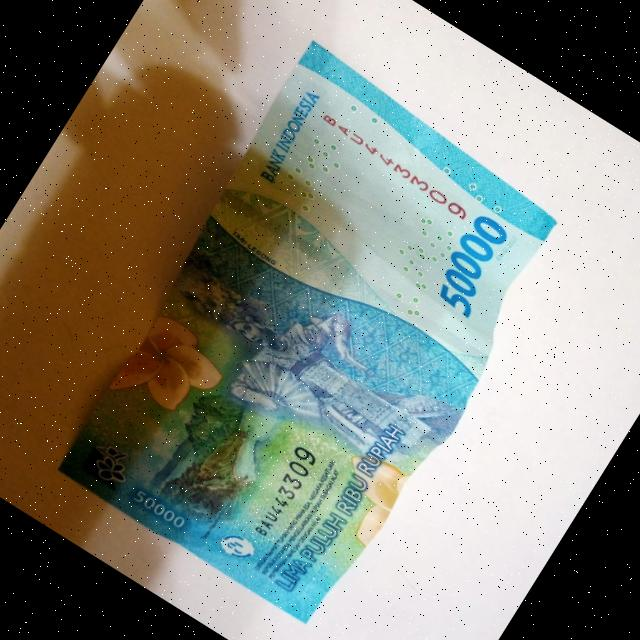50K: (34, 19, 588, 632)
